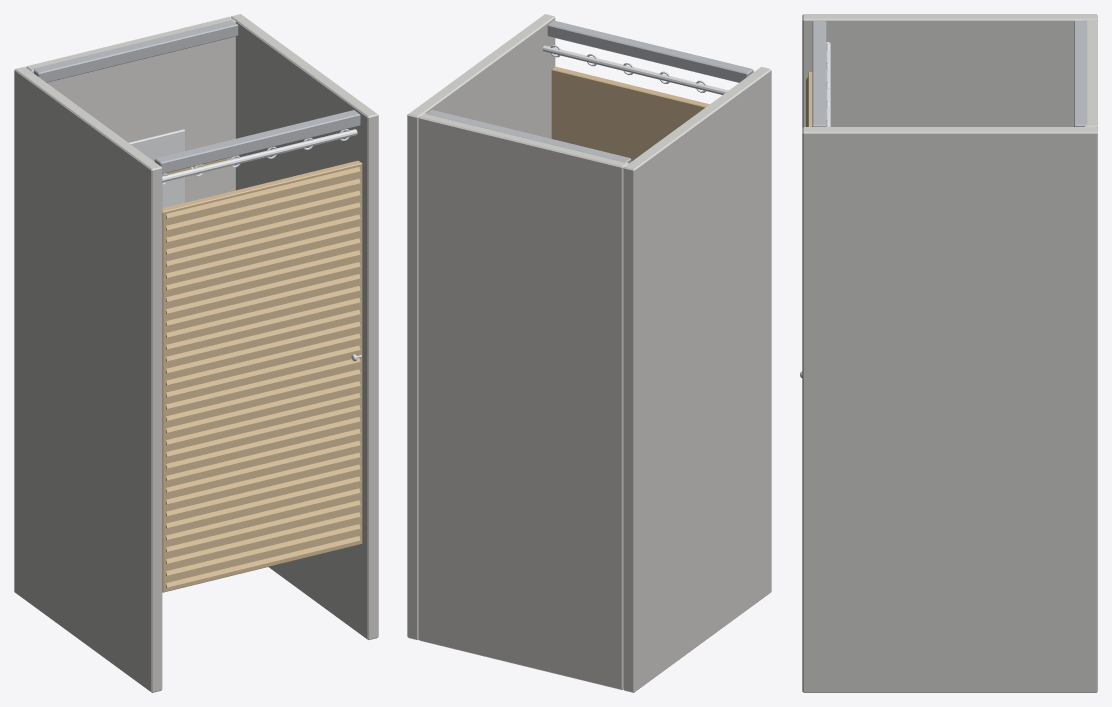
The model's file is clothing-rail-and-wardrobe-fitting-room-cubicle-57625304__35475.glb.
3 renders of one model, left to right at view 1: azimuth 30°, elevation 25°; view 2: azimuth 150°, elevation 25°; view 3: azimuth 270°, elevation 25°, orthographic. The views are drawn at different scales.
Visible parts, largest first — view 1: fitting-room-cubicle, cubicle-door/timber; view 2: fitting-room-cubicle, cubicle-door/timber; view 3: fitting-room-cubicle.
Boxes of the visible parts, left/top/right/bottom form: fitting-room-cubicle: left=14, top=14, right=378, bottom=692; cubicle-door/timber: left=162, top=160, right=362, bottom=592; fitting-room-cubicle: left=407, top=14, right=771, bottom=692; cubicle-door/timber: left=551, top=66, right=709, bottom=161; fitting-room-cubicle: left=802, top=14, right=1097, bottom=692.
Size of the model in its own units: 0.9999 by 2.2 by 1.06.
